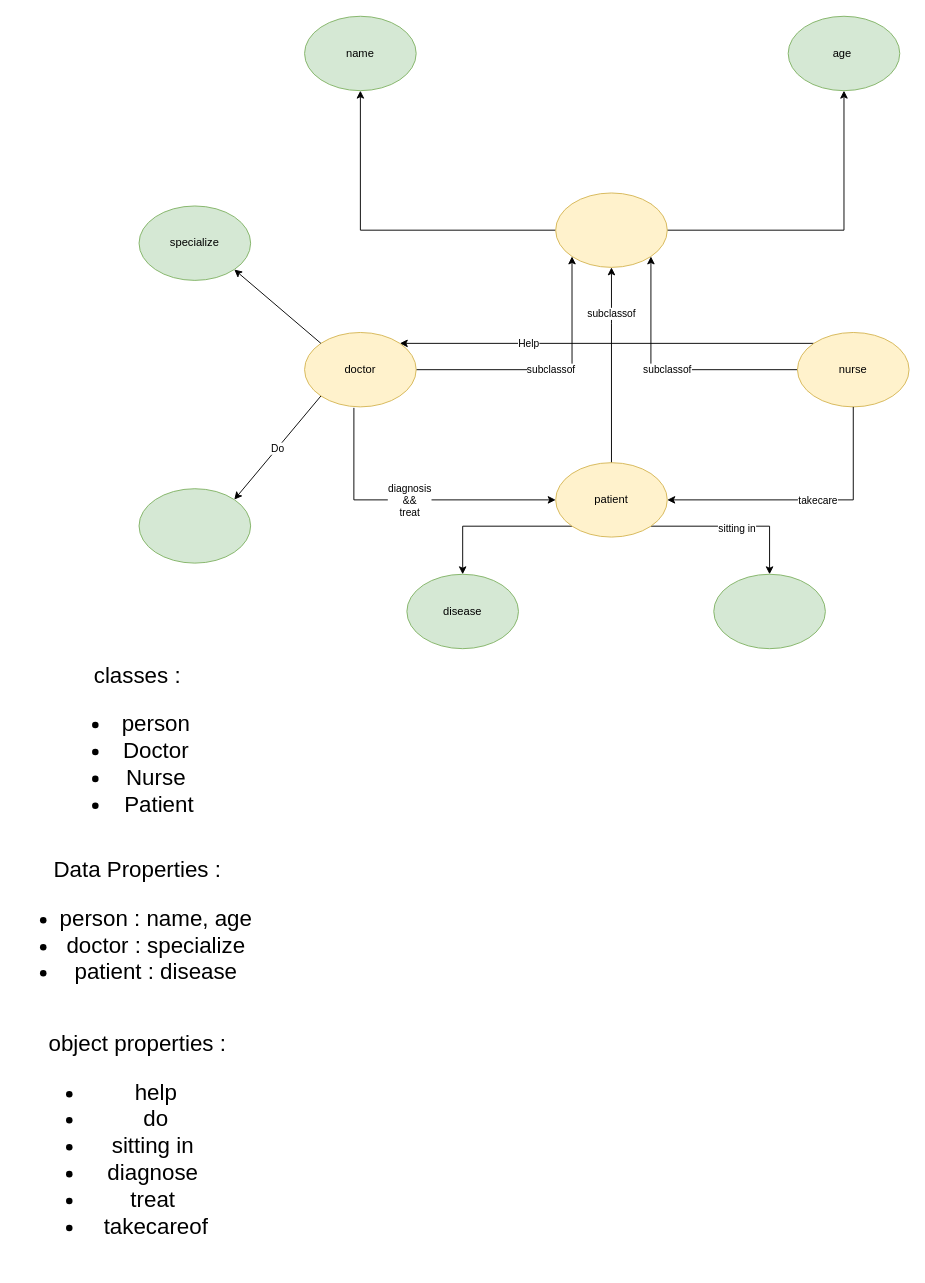
The diagram is 925 pixels wide and 1283 high, and some of its shapes have lost their labels. The centre of each missing label's shape, as x and y in pixels:
"hospital rooms" belongs at [769,611].
"person" belongs at [611,229].
"surgery operations" belongs at [194,525].
